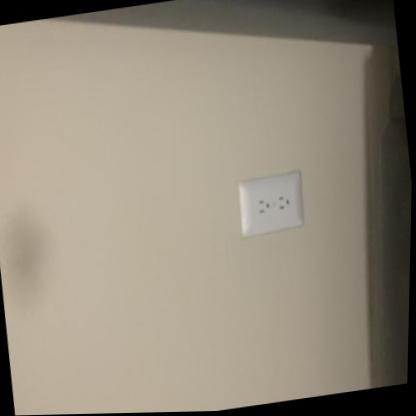OUTLET: (235, 168, 307, 239)
